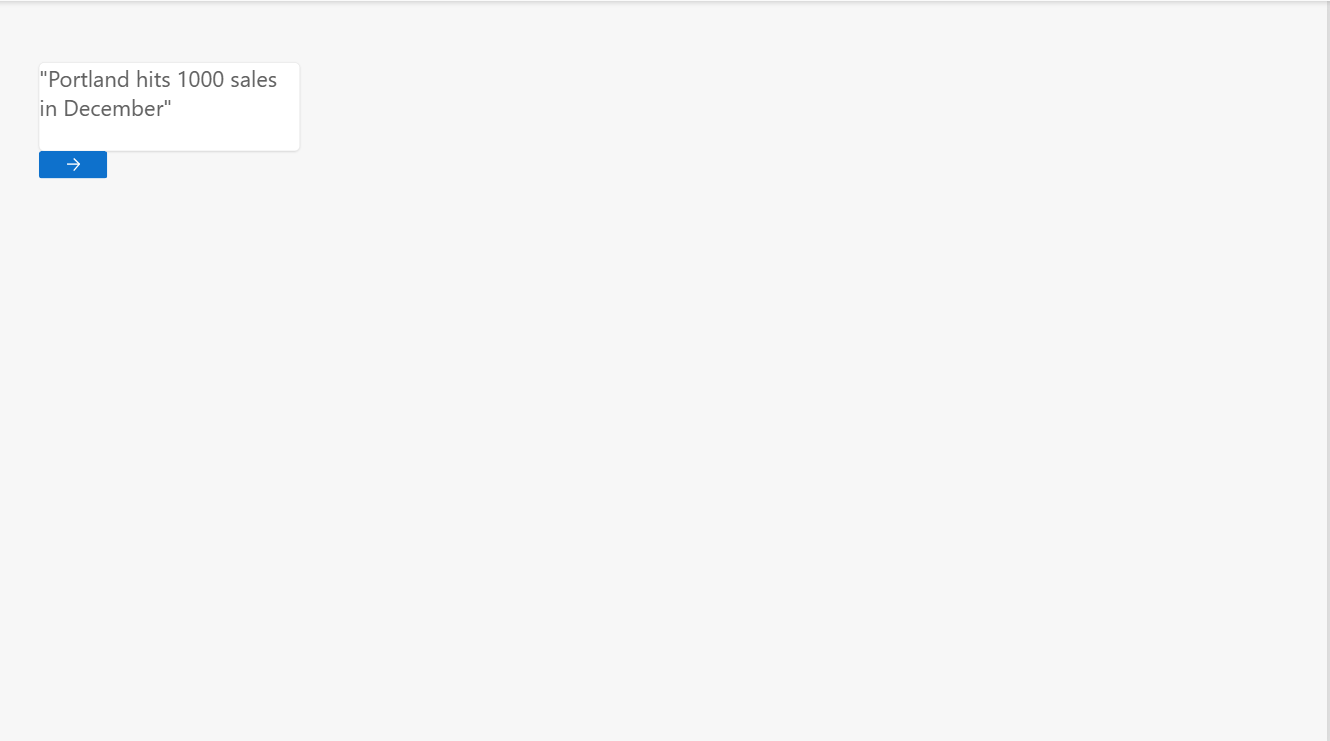

This screenshot's page, from the dashboard's own definition file:
{"tool":"powerbi","page":{"name":"Notes","canvas":[1920,1080],"ordinal":1},"visuals":[{"type":"textbox","box":[56.1,88.7,378.2,128.5],"z":0},{"type":"actionButton","box":[56.1,217.2,99.5,39.8],"z":1}]}

Visuals, with their boxes in screenshot pixels (x1, y1, x2, y2), scaled from the page's 1920x1080 canvas onto the 1330x741 screenshot:
textbox: box(39, 61, 301, 149)
actionButton: box(39, 149, 108, 176)
